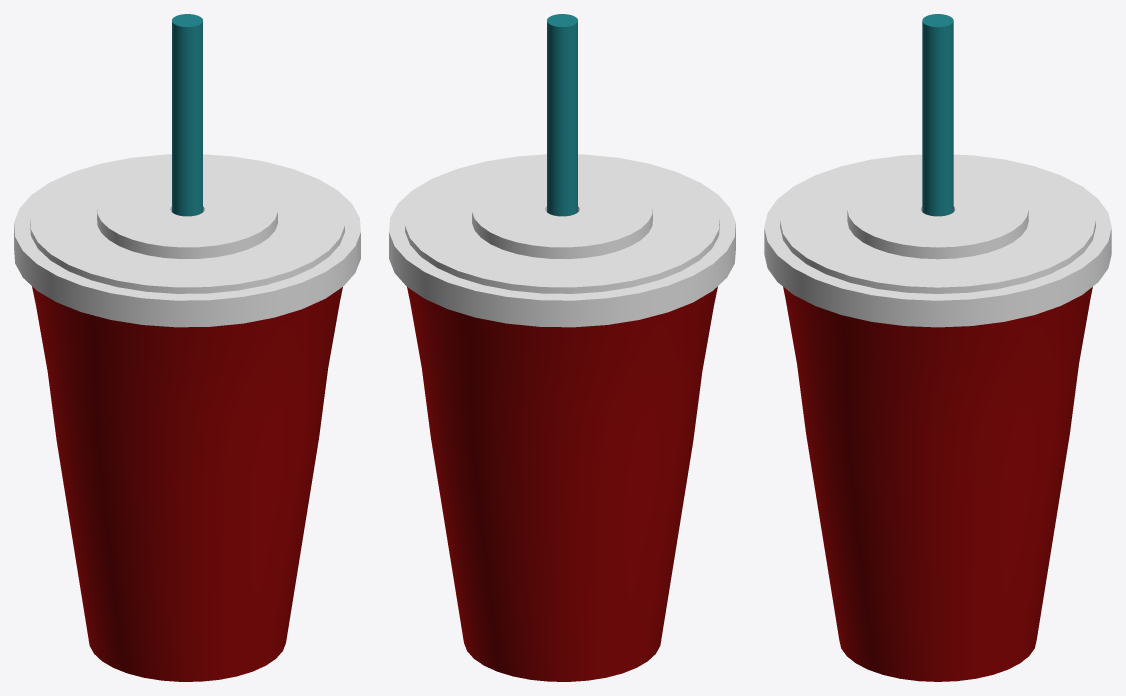
File: CupBase1.fbx
3 renders of one model, left to right at view 1: azimuth 30°, elevation 25°; view 2: azimuth 150°, elevation 25°; view 3: azimuth 270°, elevation 25°, orthographic.
Parts seen in each view (by area): view 1: Default Cup; view 2: Default Cup; view 3: Default Cup.
Part boxes in pixels (x1=…): Default Cup: x1=14, y1=14, x2=360, y2=681; Default Cup: x1=389, y1=14, x2=735, y2=681; Default Cup: x1=764, y1=14, x2=1111, y2=681.
Size of the model in its own units: 0.2932 by 0.5768 by 0.2932.
